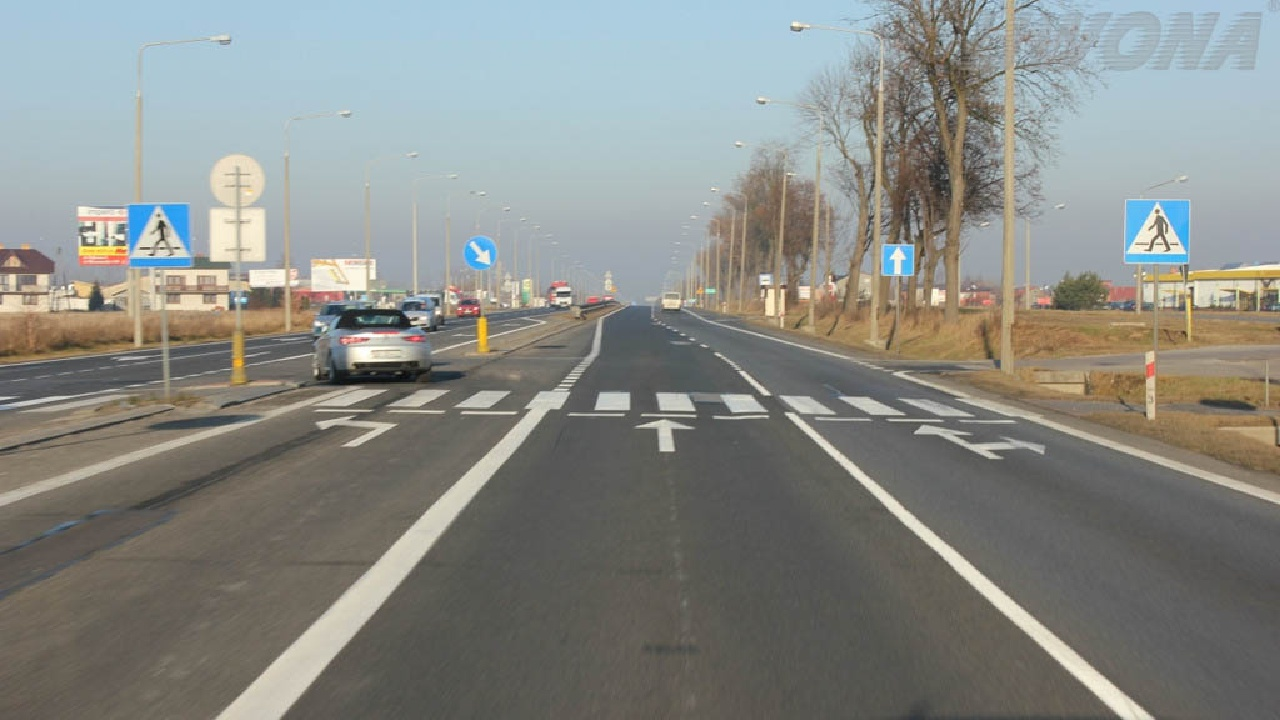C9: (463, 235, 497, 270)
D3: (881, 244, 915, 276)
D6: (128, 203, 193, 269), (1125, 199, 1190, 263)
